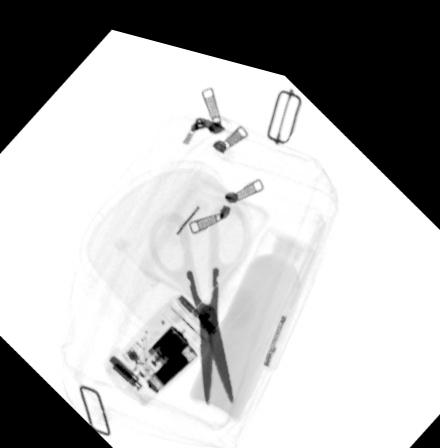Scissors: (146, 186, 249, 393)
